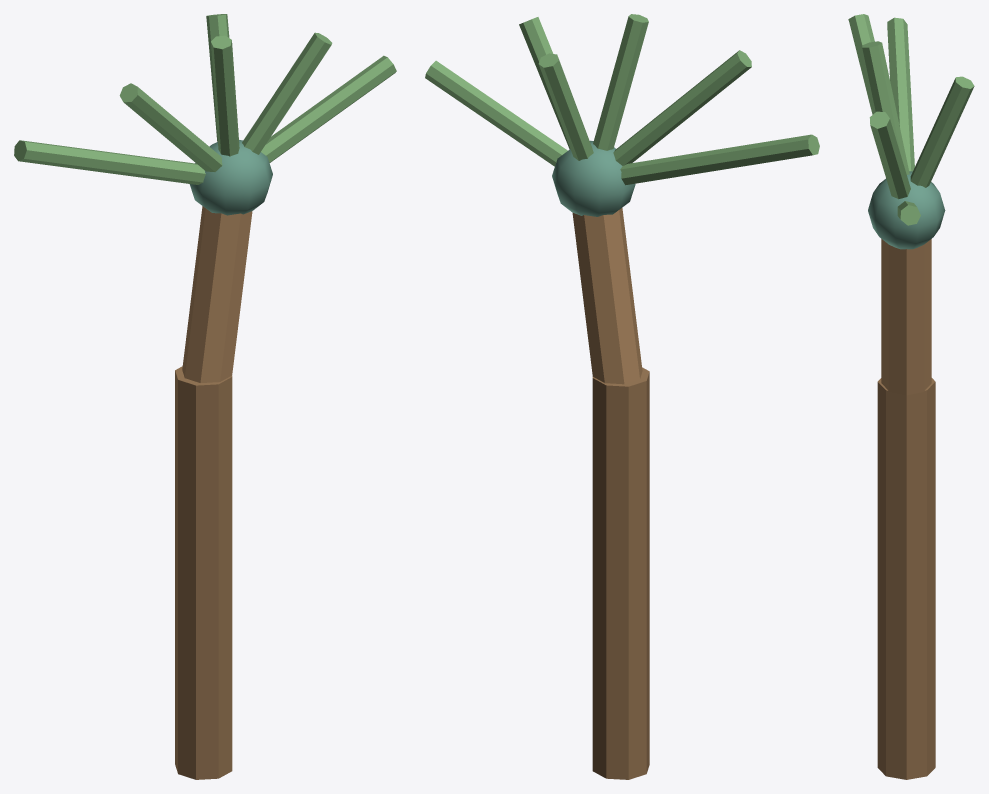
The model's file is palm.glb.
3 views of the same model, side by side, from view 1: azimuth 30°, elevation 25°; view 2: azimuth 150°, elevation 25°; view 3: azimuth 270°, elevation 25° (orthographic). The views are drawn at different scales.
Visible parts, largest first — view 1: palm_root; view 2: palm_root; view 3: palm_root.
Boxes of the visible parts, box(x1,y1,x2,y2) form: palm_root: box(14, 14, 396, 779); palm_root: box(425, 14, 819, 779); palm_root: box(848, 14, 974, 779).
Bounding box in the file's own units: 2.44 × 4.5 × 0.7091.
